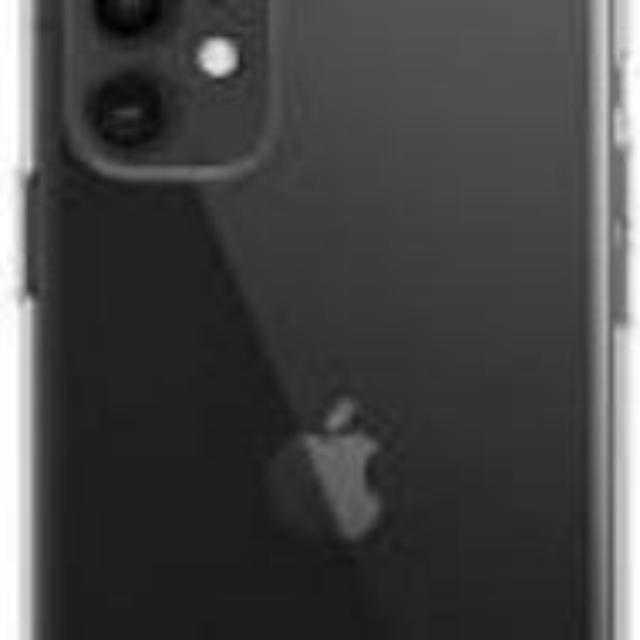fake: (20, 0, 598, 640)
